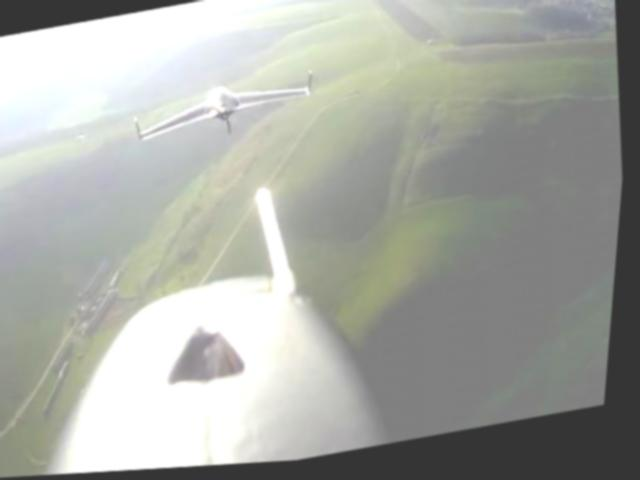iha: (126, 65, 322, 146)
